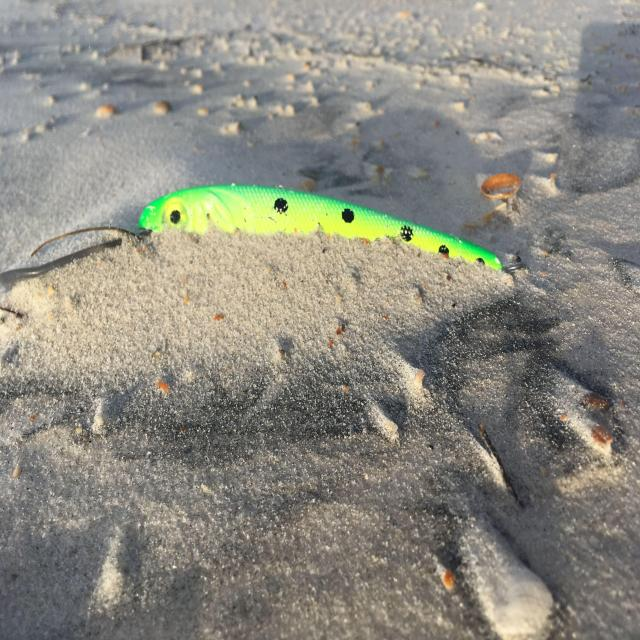litter: (135, 150, 521, 307)
